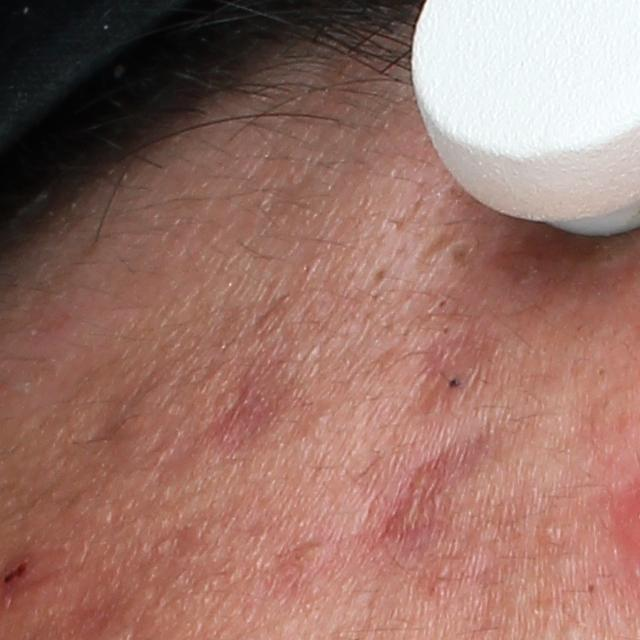comedo: (435, 364, 475, 398), (446, 242, 472, 266), (539, 523, 564, 542)
